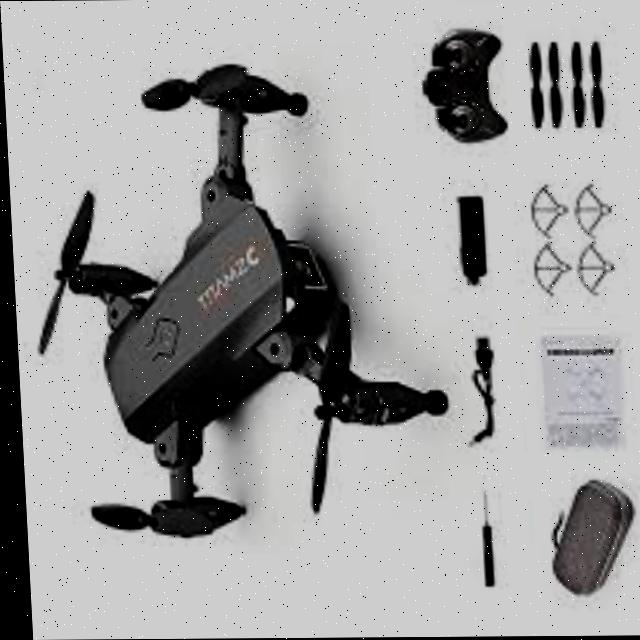drone: (19, 40, 446, 559)
